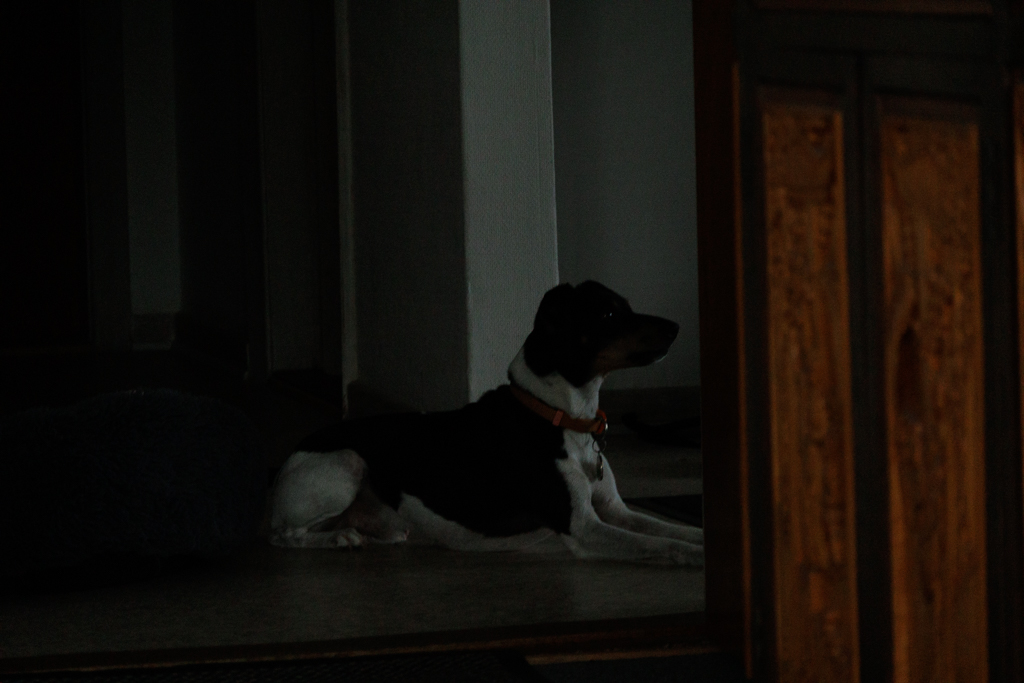Dog: (230, 271, 715, 580)
